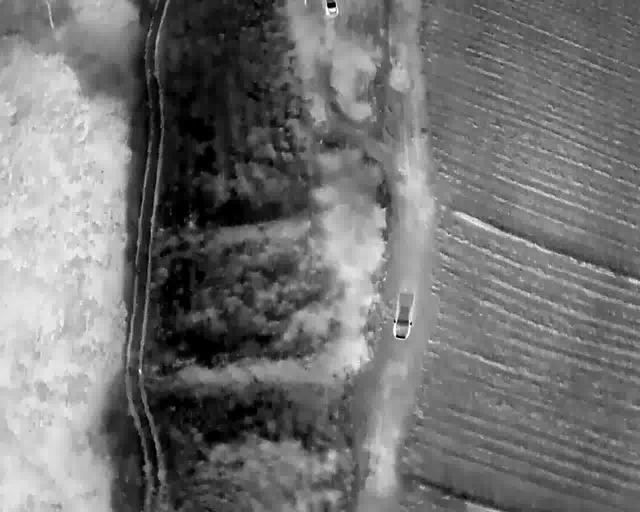car: (392, 292, 415, 340), (324, 0, 339, 17)
